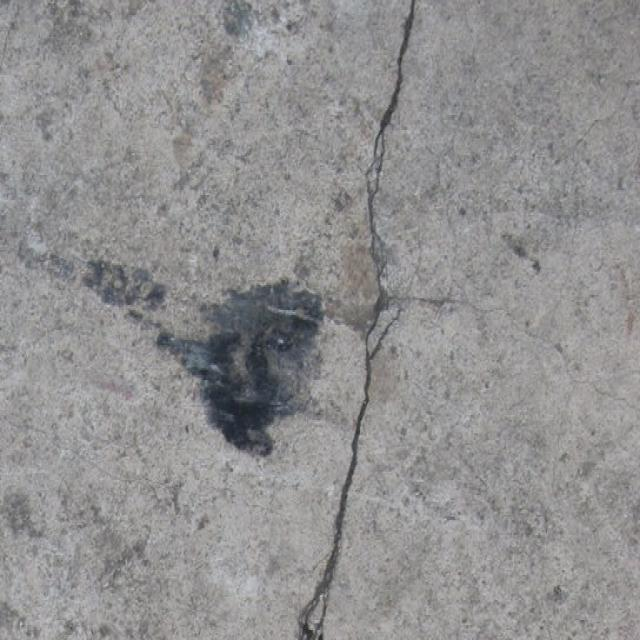Longitudinal: (293, 0, 427, 640)
